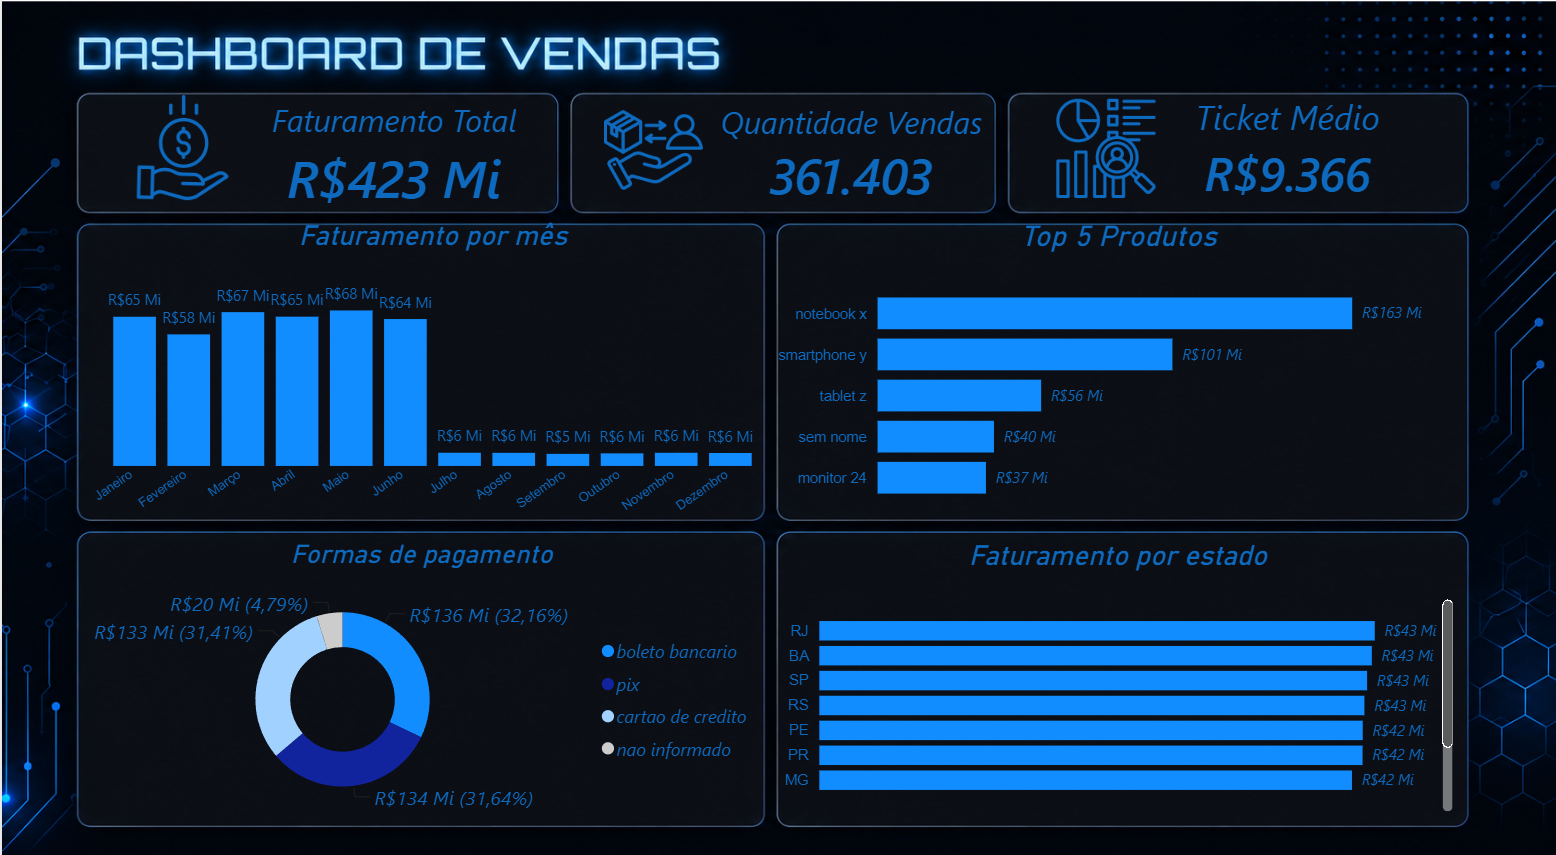

What the dashboard file says about the page in this screenshot:
{"tool":"powerbi","page":{"name":"Página 1","canvas":[1280,720],"ordinal":0},"visuals":[{"type":"cardVisual","fields":{"Data":["Sum(public dados_vendas.faturamento_total)"]},"box":[173.3,59.3,297.7,143],"z":0},{"type":"cardVisual","fields":{"Data":["Sum(public dados_vendas.qtd_vendida)"]},"box":[564,64,268.6,134.9],"z":1000},{"type":"cardVisual","fields":{"Data":["public dados_vendas.Ticket Médio"]},"box":[937.2,67.4,239.5,116.3],"z":2000},{"type":"image","box":[98.8,82.6,109.3,86],"z":3000},{"type":"image","box":[480.2,84.9,111.6,83.7],"z":4000},{"type":"image","box":[853.5,84.9,107,81.4],"z":5000},{"type":"columnChart","title":"Faturamento por mês","fields":{"Y":["Sum(public dados_vendas.faturamento_total)"],"Category":["public dados_vendas.Mes_Nome_Visual"]},"box":[64,183.7,570.9,251.2],"z":6000},{"type":"clusteredBarChart","title":"Top 5 Produtos","fields":{"Category":["public dados_vendas.nome_produto"],"Y":["Sum(public dados_vendas.faturamento_total)"]},"box":[631.4,183.7,572.1,245.3],"z":7000},{"type":"donutChart","title":"Formas de pagamento","fields":{"Category":["public dados_vendas.forma_pagamento"],"Y":["Sum(public dados_vendas.faturamento_total)"]},"box":[64,446.5,562.8,229.1],"z":8000},{"type":"barChart","title":"Faturamento por estado","fields":{"Category":["public dados_vendas.uf_cliente"],"Y":["Sum(public dados_vendas.faturamento_total)"]},"box":[637.2,446.5,560.5,229.1],"z":9000}]}

Visuals, with their boxes in screenshot pixels (x1, y1, x2, y2), scaled from the page's 1280x720 canvas onto the 1556x855 screenshot:
cardVisual - Sum(public dados_vendas.faturamento_total): bbox=[211, 70, 573, 240]
cardVisual - Sum(public dados_vendas.qtd_vendida): bbox=[686, 76, 1012, 236]
cardVisual - public dados_vendas.Ticket Médio: bbox=[1139, 80, 1430, 218]
image: bbox=[120, 98, 253, 200]
image: bbox=[584, 101, 719, 200]
image: bbox=[1038, 101, 1168, 197]
"Faturamento por mês" columnChart: bbox=[78, 218, 772, 516]
"Top 5 Produtos" clusteredBarChart: bbox=[768, 218, 1463, 509]
"Formas de pagamento" donutChart: bbox=[78, 530, 762, 802]
"Faturamento por estado" barChart: bbox=[775, 530, 1456, 802]
